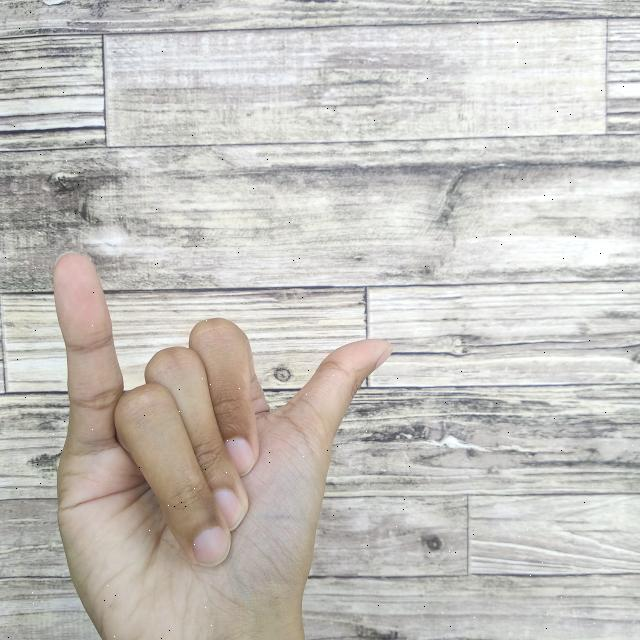Y: (43, 242, 401, 640)
